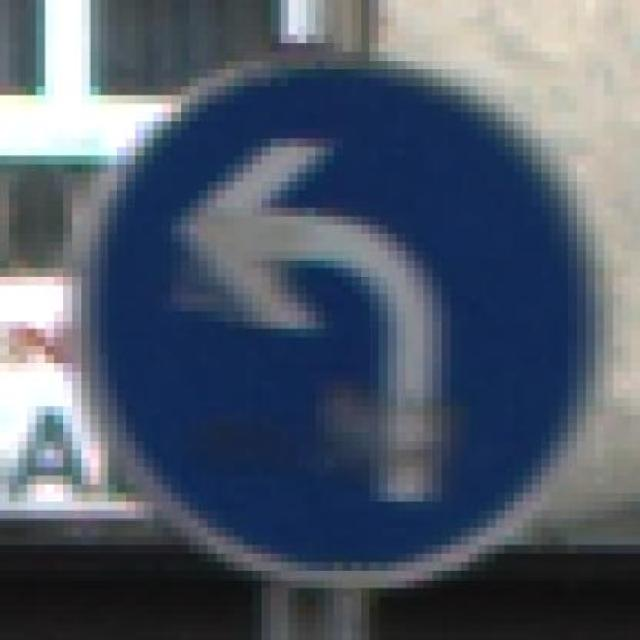Turn left ahead: (72, 43, 603, 588)
